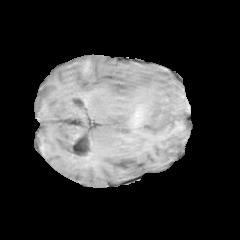glioma: (106, 66, 184, 132)
